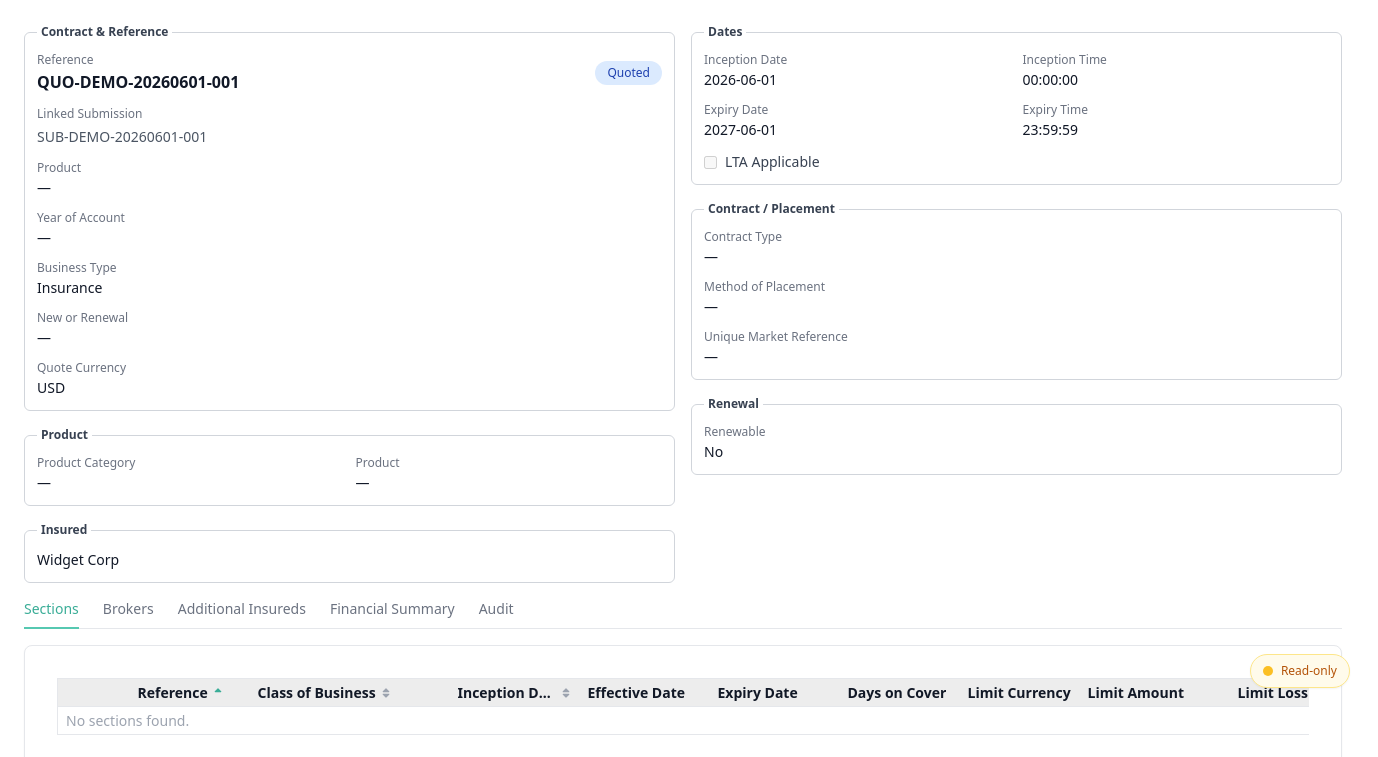
Test: QuoteViewPage › T-quotes-view-R29 — Brokers tab shows read-only names and hides BrokerSearch when Quoted
Check: the text "QUO-DEMO-20260601-001" is shown, box [37,70,239,94]
What coordinates should you click on to do the following:
click the button with test id "tab-brokers"
I would click on:
 (128, 614)
Its box is [103,599,154,629].
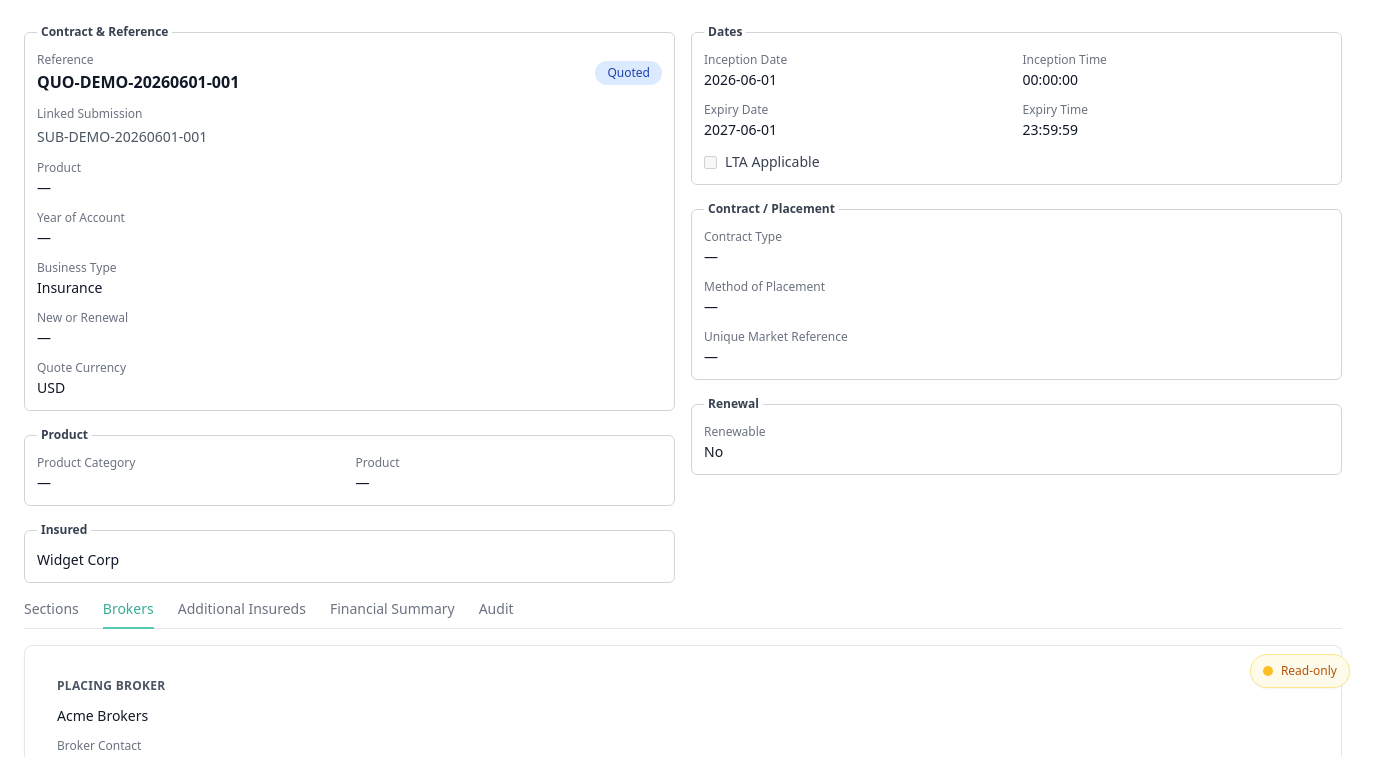
Check: the text "Acme Brokers" is shown, box [57,706,148,725]
